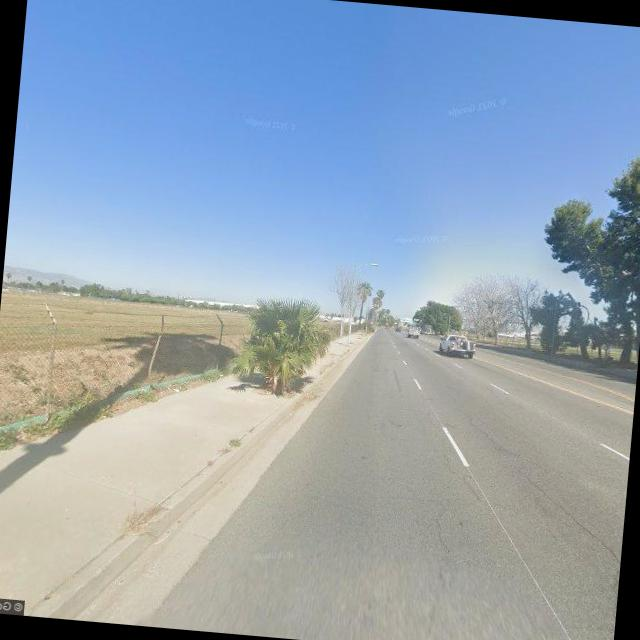pothole: (454, 410, 628, 560)
